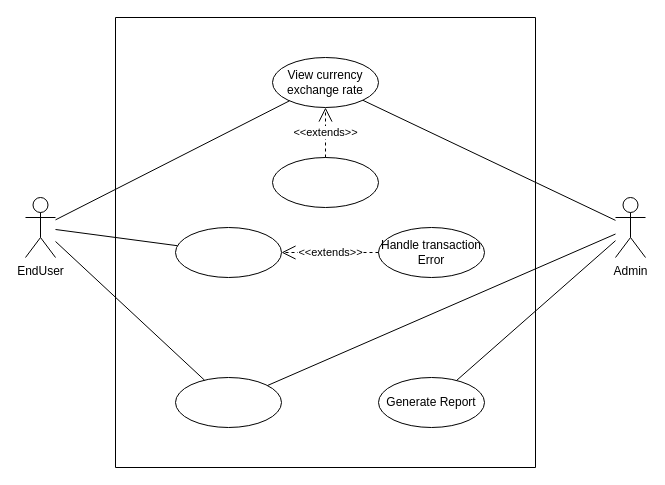
Some shapes in this 665 by 485 pixel diagram are drawn without their labels. Each missing label, with the box of its shape:
Perform currency exchange: (174, 226, 282, 278)
Set alarm and notify: (272, 156, 378, 208)
View history transactions: (174, 376, 282, 428)
